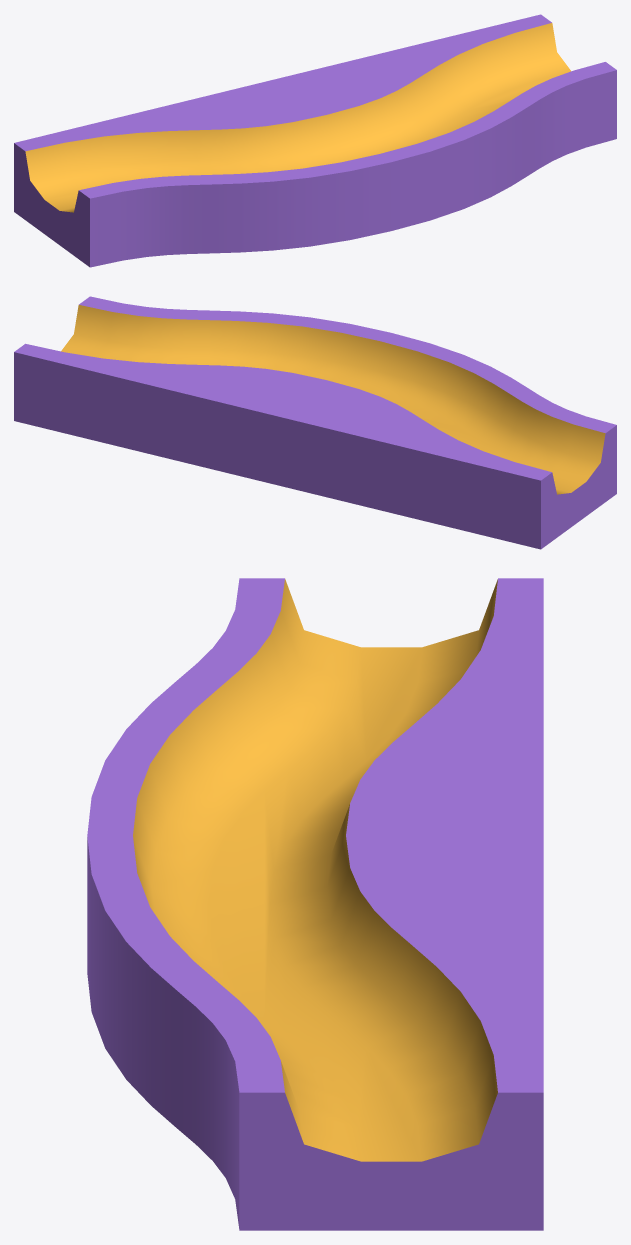
The model's file is wave-solid-b-col.glb.
3 renders of one model, top to bottom at view 1: azimuth 30°, elevation 25°; view 2: azimuth 150°, elevation 25°; view 3: azimuth 270°, elevation 25°, orthographic. The views are drawn at different scales.
Visible parts, largest first — view 1: wave-solid-b-col; view 2: wave-solid-b-col; view 3: wave-solid-b-col.
Boxes of the visible parts, bbox=[...] form: wave-solid-b-col: bbox=[14, 14, 616, 267]; wave-solid-b-col: bbox=[14, 296, 616, 549]; wave-solid-b-col: bbox=[87, 578, 543, 1230].
Bounding box in the file's own units: 4 × 0.5 × 1.5.
Materials: 1 (1 with a texture image).
